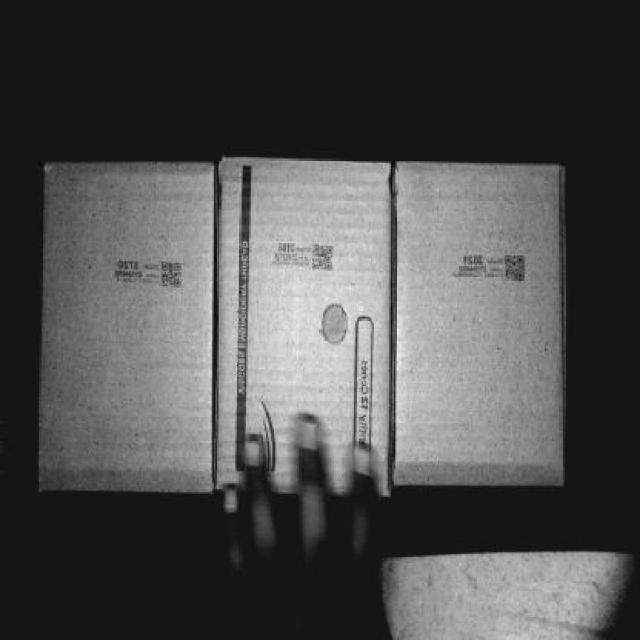cardboxes: (218, 162, 388, 496), (40, 165, 206, 489), (390, 166, 559, 479)
